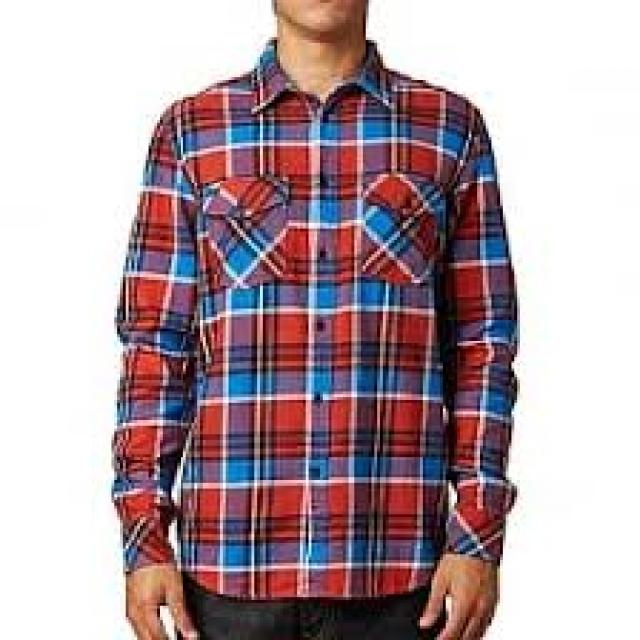plaid: (102, 53, 512, 601)
